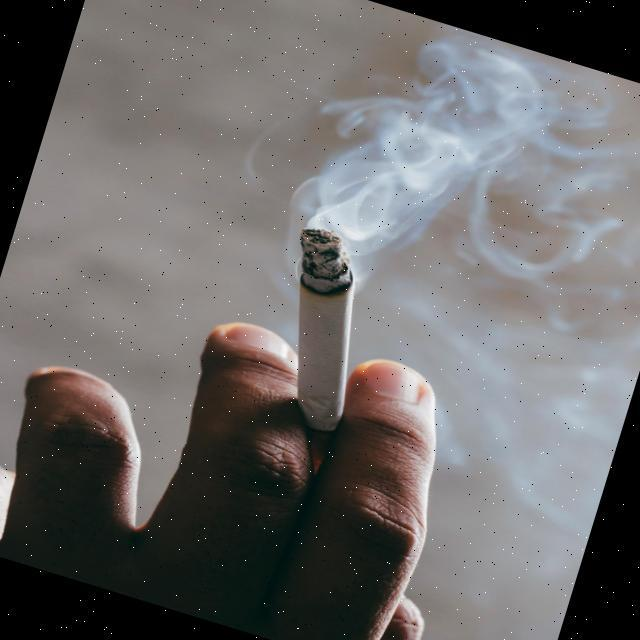cigarette: (233, 220, 403, 448)
